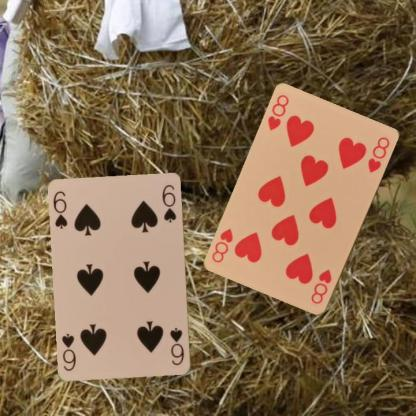6s: (168, 325, 186, 367), (51, 189, 69, 231)
8h: (265, 92, 291, 132), (309, 267, 334, 306)
